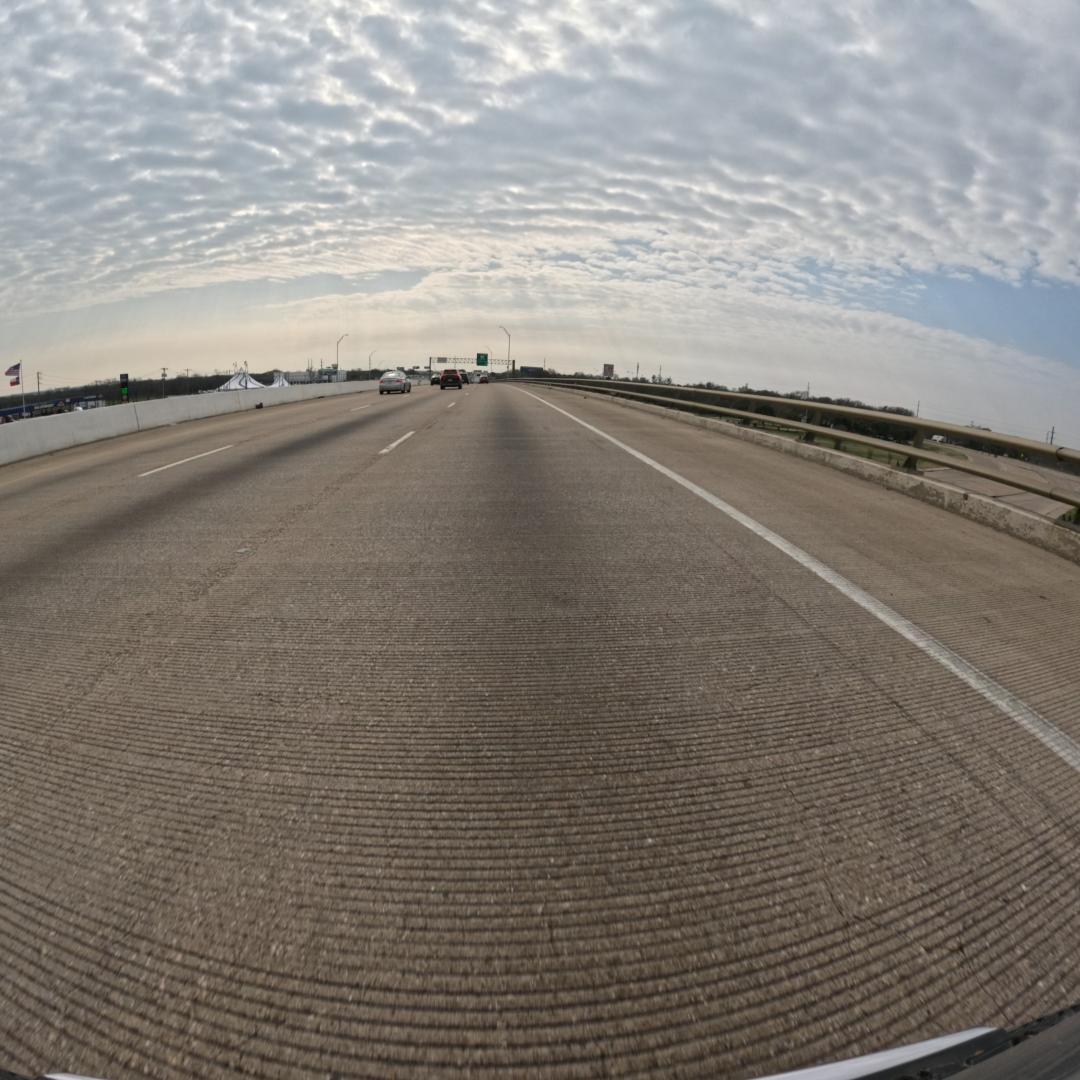lane0: (0, 383, 1079, 1080)
lane1: (0, 386, 472, 760)
